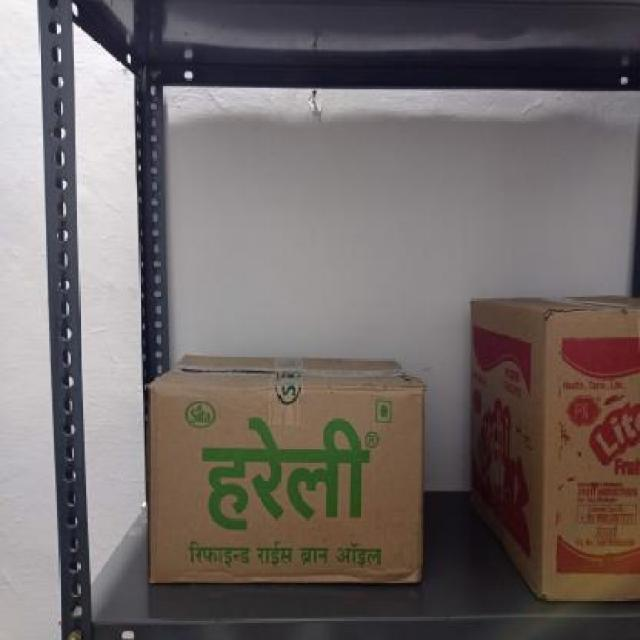box: (144, 383, 424, 586), (544, 310, 640, 598)
